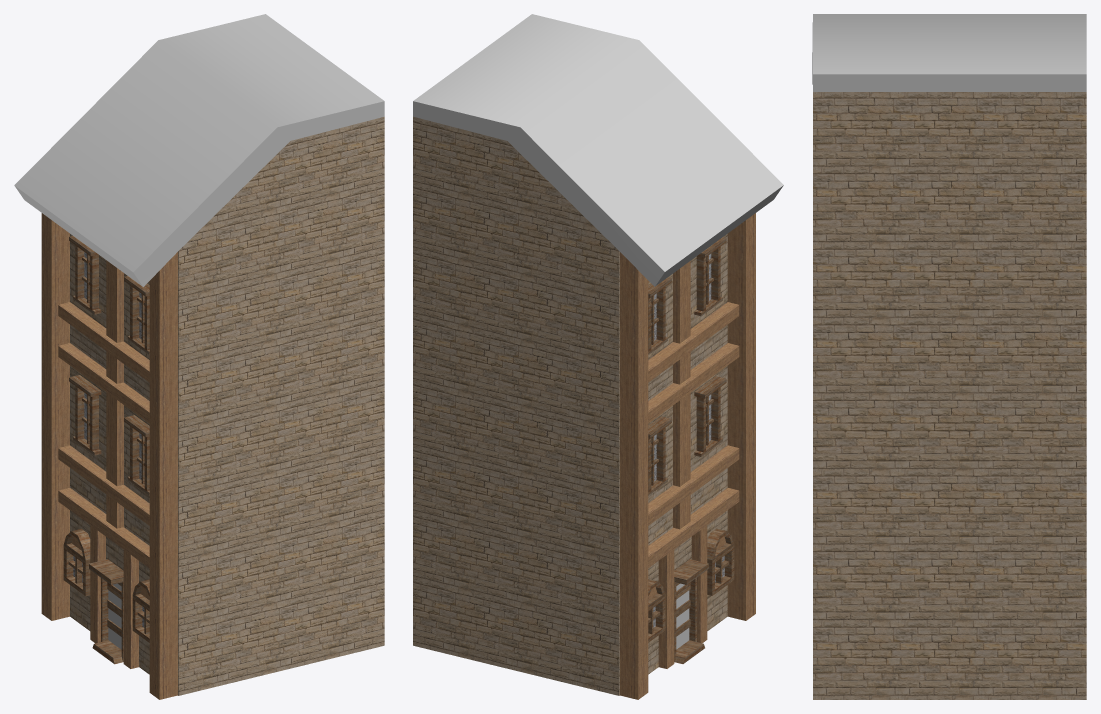
The model's file is townhouse1_withdoor_combined.fbx.
The picture shows the model from 3 angles, left to right: view 1: azimuth 30°, elevation 25°; view 2: azimuth 150°, elevation 25°; view 3: azimuth 270°, elevation 25°; orthographic projection. The views are drawn at different scales.
Parts seen in each view (by area): view 1: pCube48; view 2: pCube48; view 3: pCube48.
Part boxes in pixels (x1=…): pCube48: x1=14, y1=14, x2=384, y2=699; pCube48: x1=413, y1=14, x2=783, y2=699; pCube48: x1=812, y1=14, x2=1086, y2=699.
Size of the model in its own units: 36.61 by 75.7 by 30.05.
